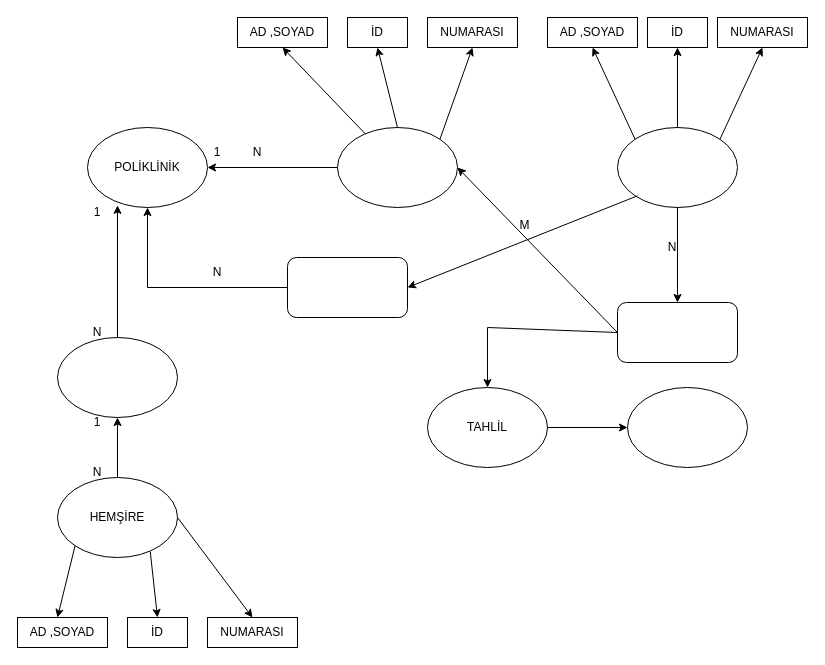
This 825x665 diagram has some shape labels left out. Each missing label, with the box of its shape:
DOKTOR: (336, 126, 458, 208)
HASTA: (616, 126, 738, 208)
LABORATUVAR: (626, 386, 748, 468)
MUAYENE (ARACI KISIM): (286, 256, 408, 318)
SERVİS: (56, 336, 178, 418)
TAHLİS İSTEME (ARACI KISIM: (616, 302, 738, 362)
